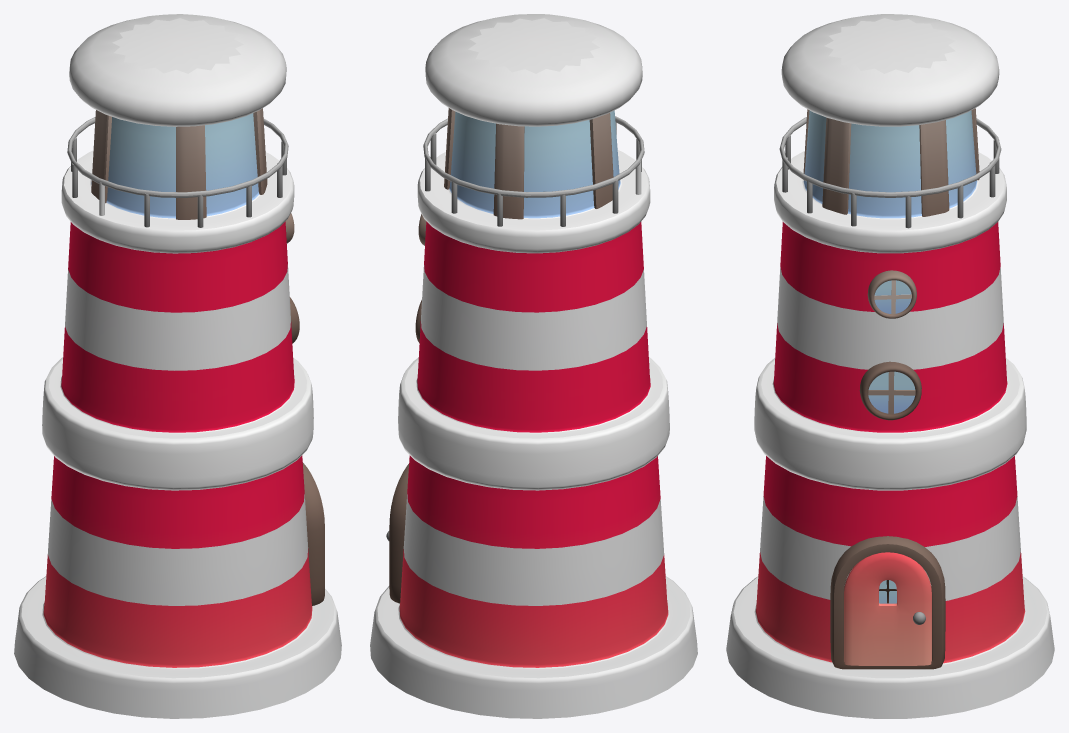
The model's file is Huisjes vuurtoren.fbx.
3 views of the same model, side by side, from view 1: azimuth 30°, elevation 25°; view 2: azimuth 150°, elevation 25°; view 3: azimuth 270°, elevation 25° (orthographic).
Visible parts, largest first — view 1: Cylinder.038, Cube.043, Cylinder.035, Cylinder.036; view 2: Cylinder.038, Cube.043, Cylinder.035, Cylinder.036; view 3: Cylinder.038, door.003, Cube.043, Cylinder.036, Cylinder.035, Cylinder.028, Cylinder.031, Cylinder.029, Cylinder.032.
Part boxes in pixels (x1,y1,x2,y2): Cylinder.038: (14,14,341,718); Cube.043: (91,108,267,219); Cylinder.035: (67,117,288,227); Cylinder.036: (302,462,324,605); Cylinder.038: (370,14,697,718); Cube.043: (444,108,613,219); Cylinder.035: (423,116,644,226); Cylinder.036: (389,464,408,603); Cylinder.038: (726,14,1054,718); door.003: (844,552,931,665); Cube.043: (803,108,979,216); Cylinder.036: (830,536,945,669); Cylinder.035: (779,117,1001,228); Cylinder.028: (859,361,921,420); Cylinder.031: (868,371,915,413); Cylinder.029: (867,270,916,318); Cylinder.032: (874,280,911,313).
Size of the model in its own units: 586 by 1200 by 588.
